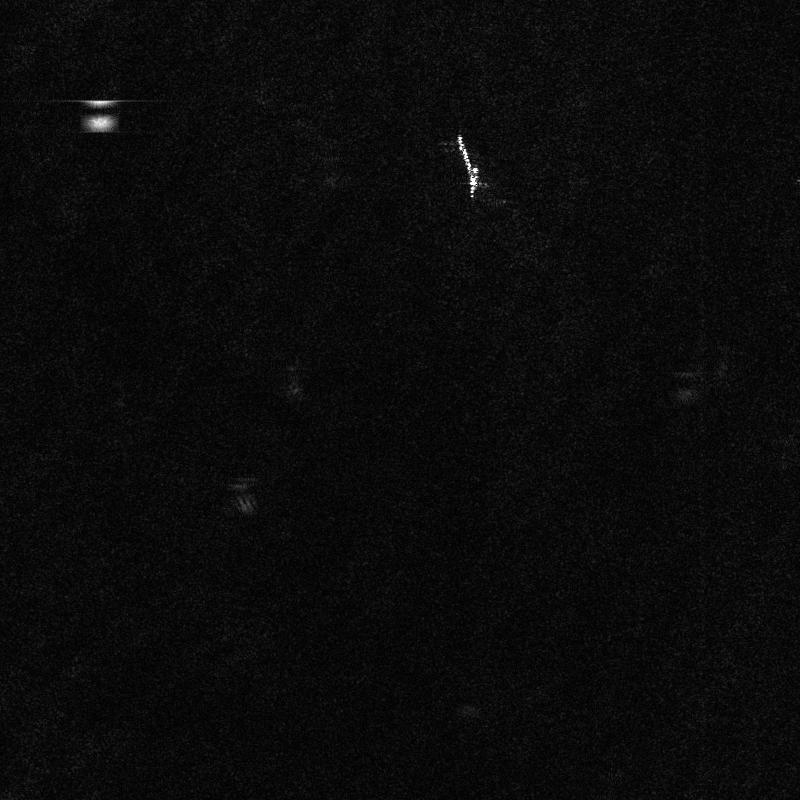ship: (457, 133, 479, 197)
